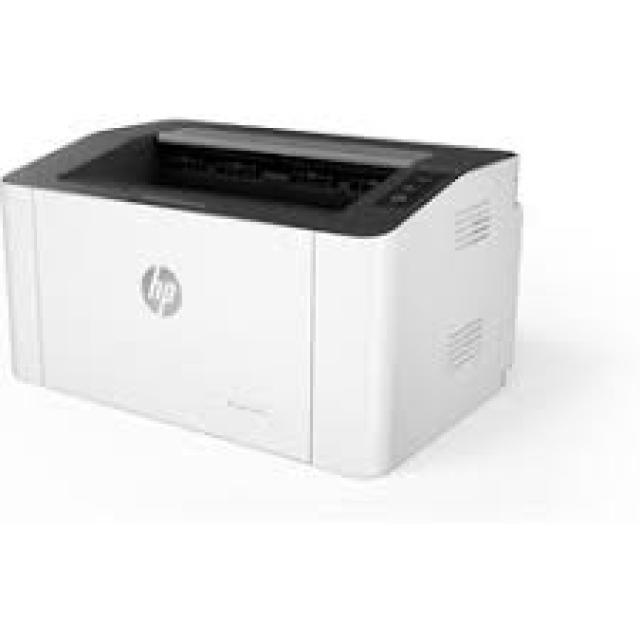printer: (0, 114, 523, 478)
